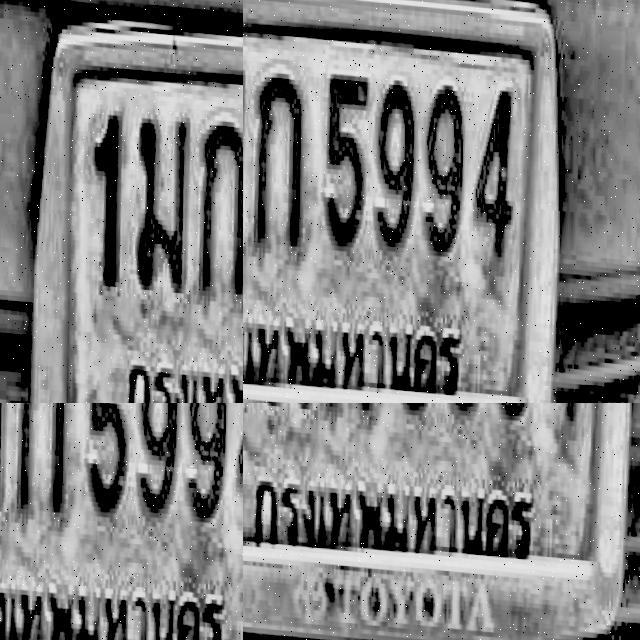license-plate: (0, 0, 243, 403), (243, 403, 640, 640), (0, 403, 243, 640), (243, 0, 356, 253)
